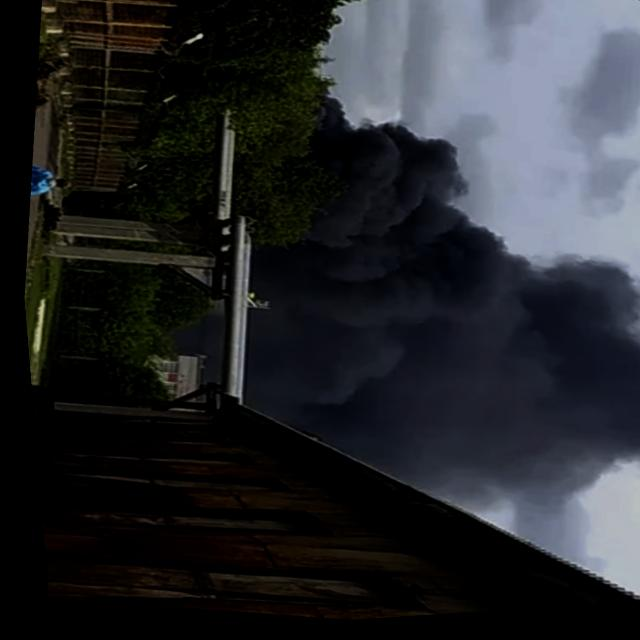Smoke: (232, 72, 640, 548)
